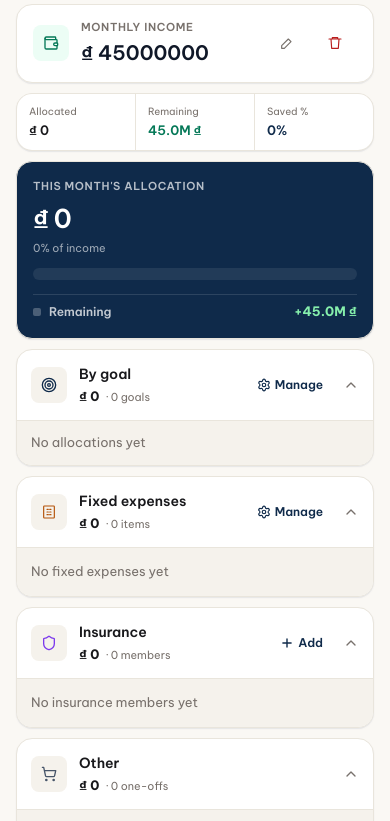
it: MobilePlanningView — with plan › opens delete confirmation when delete button is clicked
The width and height of the screenshot is (390, 821).
Step 1. Click the button named "delete" → (335, 43), box x1=313 y1=21 x2=357 y2=65
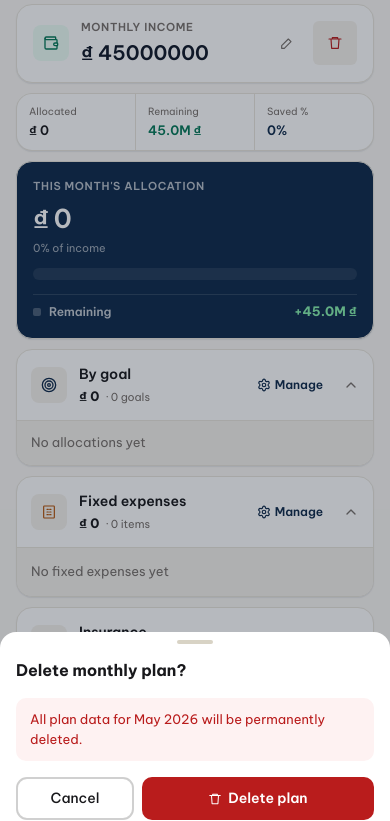
Check: the text "Delete monthly plan?" is shown, box x1=16 y1=660 x2=186 y2=680
